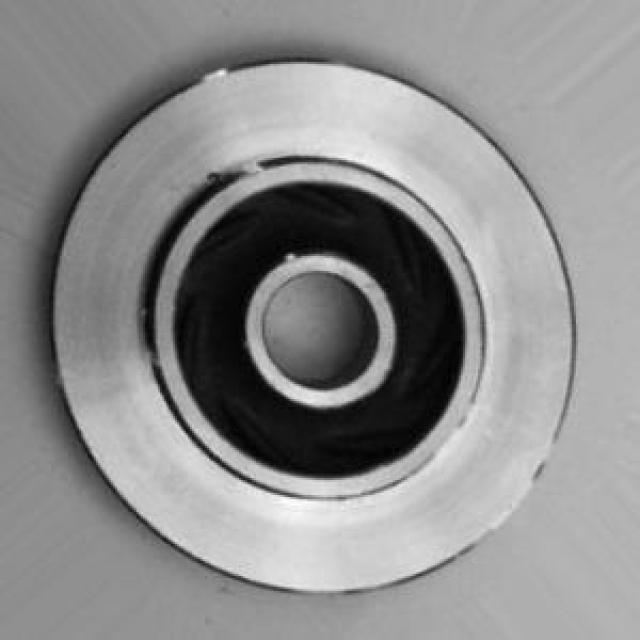Defect: (192, 153, 246, 197)
